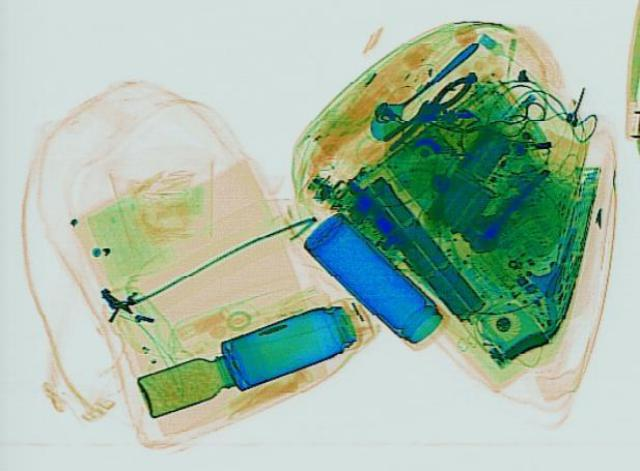Pliers: (374, 69, 480, 148)
